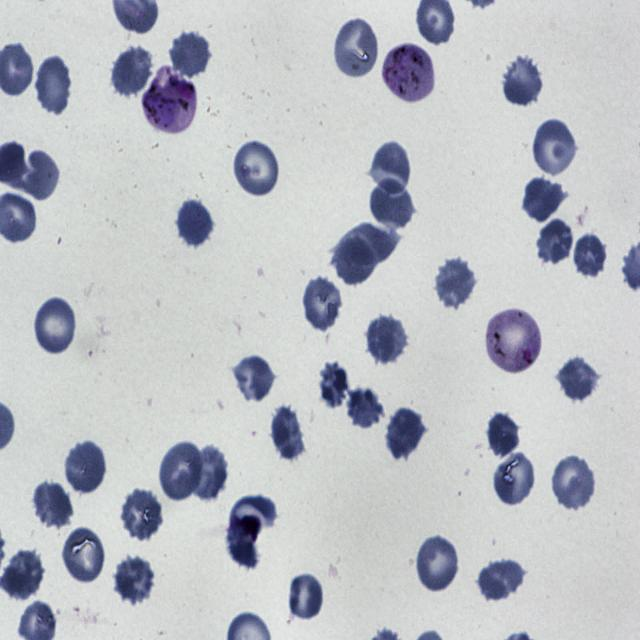red blood cell: (332, 222, 402, 269), (333, 15, 381, 82), (232, 138, 281, 200), (414, 532, 461, 594), (532, 116, 579, 178), (159, 439, 204, 502), (32, 295, 78, 356), (550, 453, 597, 511), (61, 526, 106, 584), (185, 444, 230, 502), (369, 178, 416, 233), (34, 54, 73, 119), (63, 439, 107, 496), (230, 352, 276, 406), (370, 139, 412, 198), (120, 486, 164, 542), (330, 235, 378, 286), (433, 256, 478, 310), (500, 53, 544, 108), (302, 273, 342, 333), (477, 555, 528, 602), (110, 44, 154, 98), (18, 145, 61, 200), (494, 451, 536, 507), (169, 28, 212, 82), (522, 175, 568, 225), (1, 549, 46, 600), (112, 554, 156, 606), (32, 478, 74, 532), (556, 353, 599, 404), (269, 404, 306, 463), (386, 406, 426, 459), (366, 314, 408, 364), (534, 217, 575, 268), (342, 386, 386, 430), (174, 200, 213, 249), (288, 572, 325, 621), (486, 410, 522, 460), (573, 232, 609, 280), (319, 359, 347, 410)
ring: (485, 305, 542, 372)
trophozoite: (144, 68, 196, 133), (382, 42, 436, 104)
